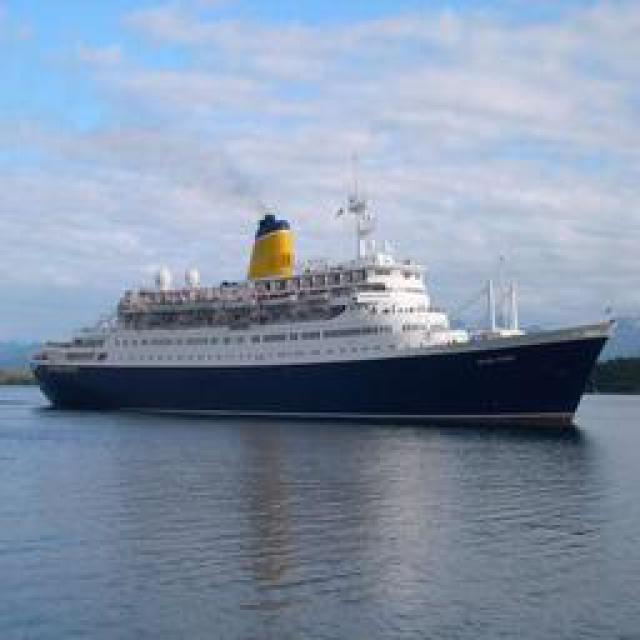Ship: (25, 198, 613, 426)
